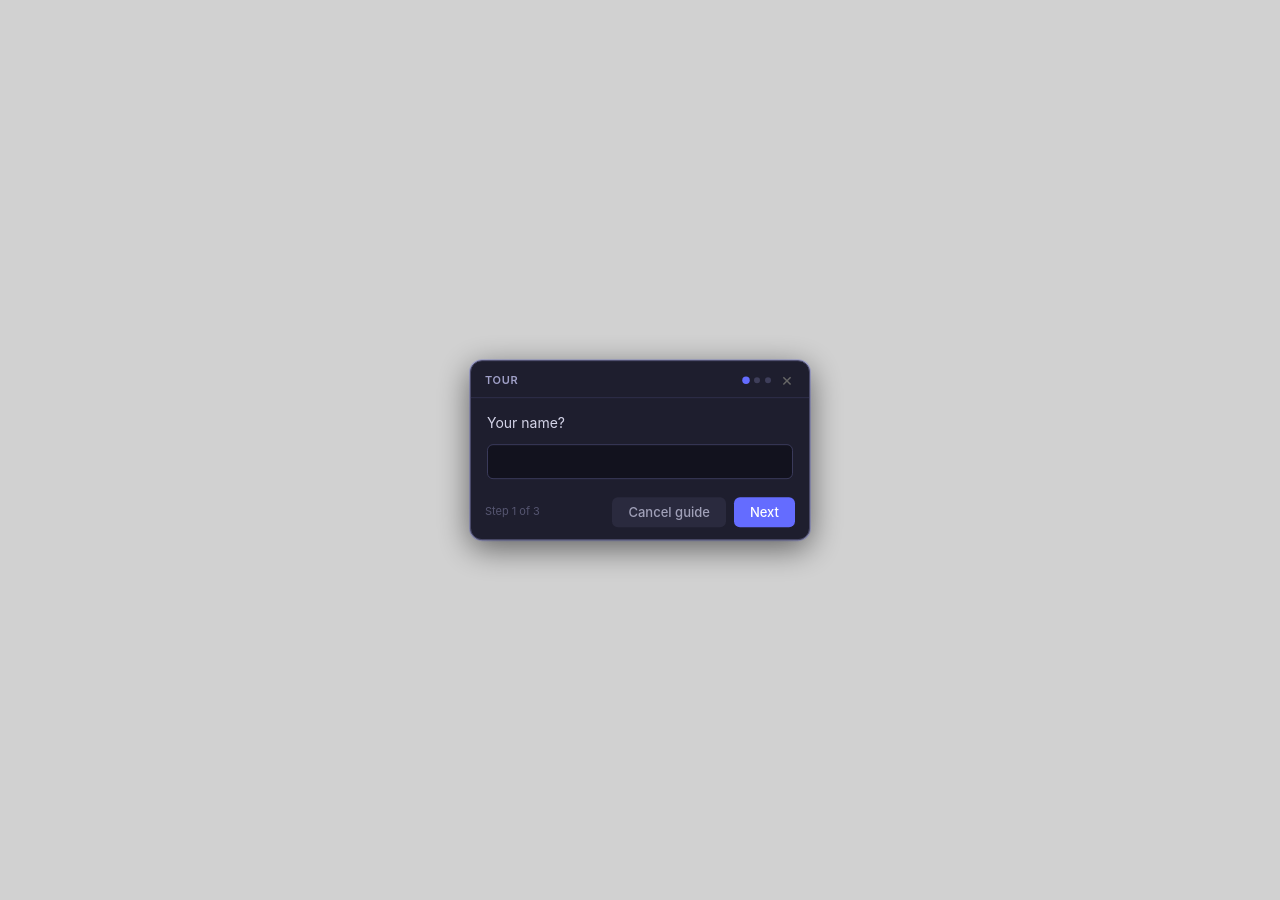
Scenario: GuideOverlay › stores an input step answer on Enter and moves exactly one step
Type "Ada" into the field at (640, 461), box [487,444,793,479]
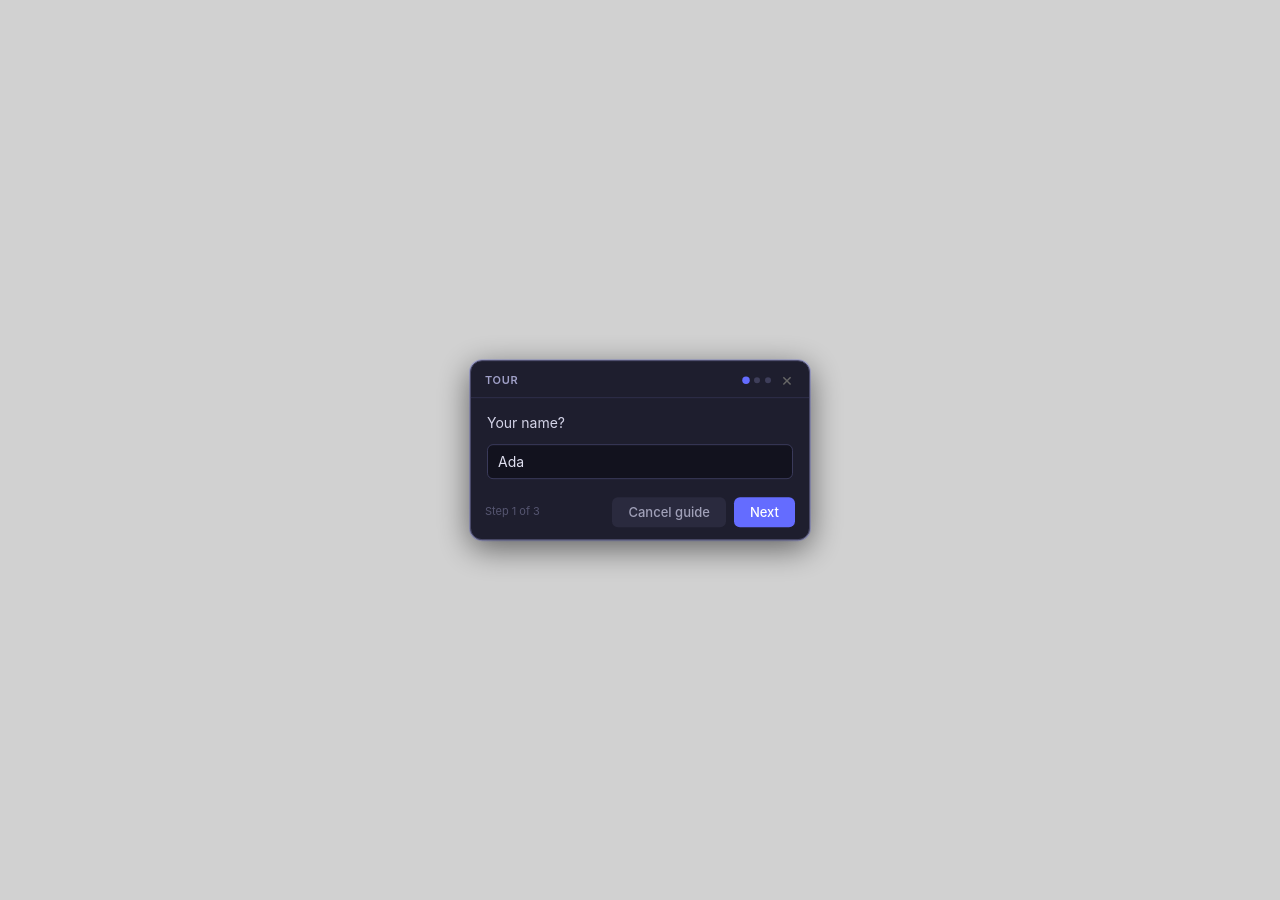
Press Enter in the field, box [487,444,793,479]
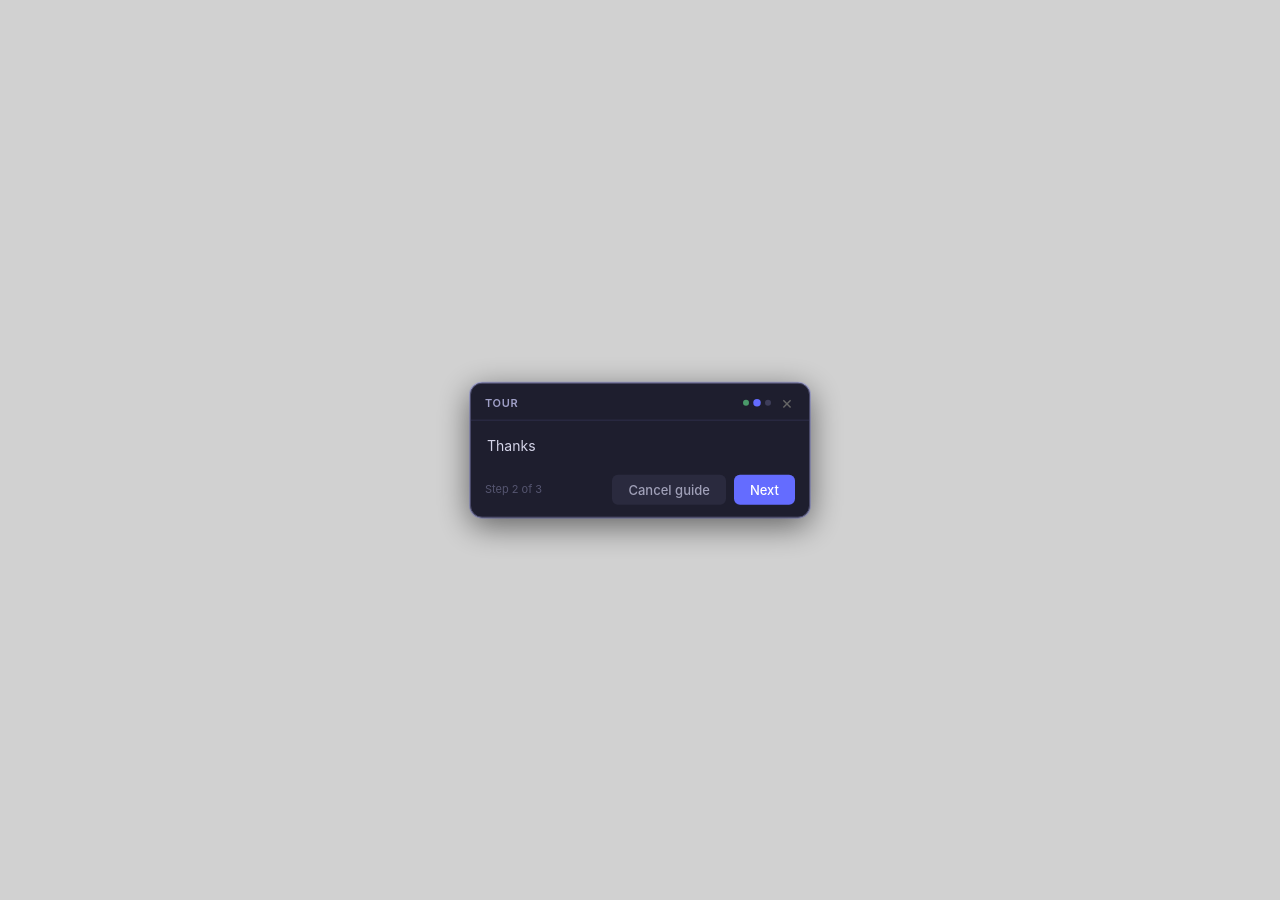
Result: the text "Thanks" is shown at [487,437,536,454]
